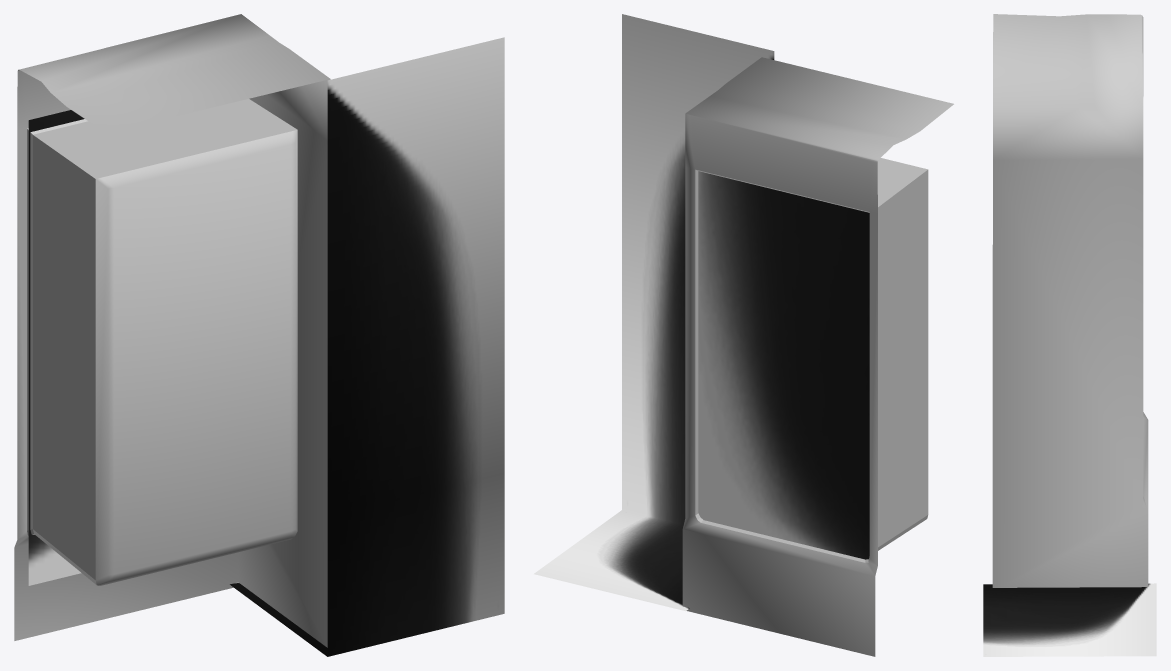
Rendered from Fridge2.fbx.
3 renders of one model, left to right at view 1: azimuth 30°, elevation 25°; view 2: azimuth 150°, elevation 25°; view 3: azimuth 270°, elevation 25°, orthographic. The views are drawn at different scales.
Parts seen in each view (by area): view 1: Fridge2, Fridge2_shadow; view 2: Fridge2_shadow, Fridge2; view 3: Fridge2, Fridge2_shadow.
Boxes of the visible parts, x1,y1,x2,y2 form: Fridge2: (14,14,330,647); Fridge2_shadow: (28,37,504,656); Fridge2_shadow: (534,14,869,611); Fridge2: (682,57,953,656); Fridge2: (992,14,1148,587); Fridge2_shadow: (983,583,1156,656).
Size of the model in its own units: 1.36 by 1.92 by 0.6171.
